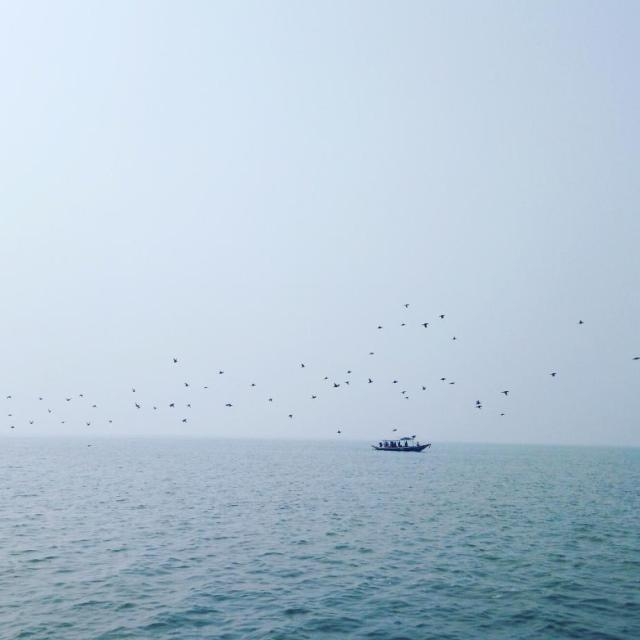fishing boat: (370, 425, 439, 458)
